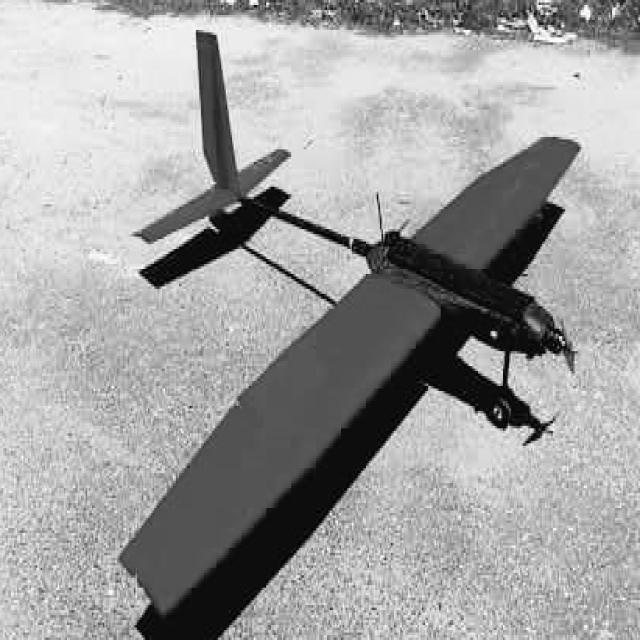iha: (56, 30, 579, 637), (56, 30, 578, 637)
